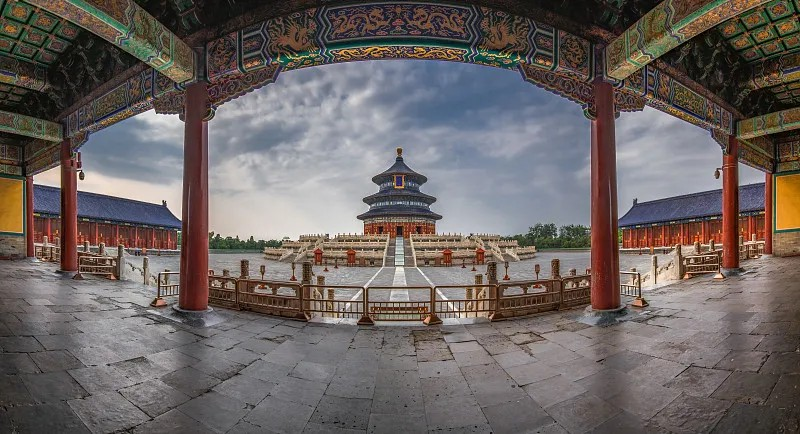Heaven: (356, 145, 443, 237)
